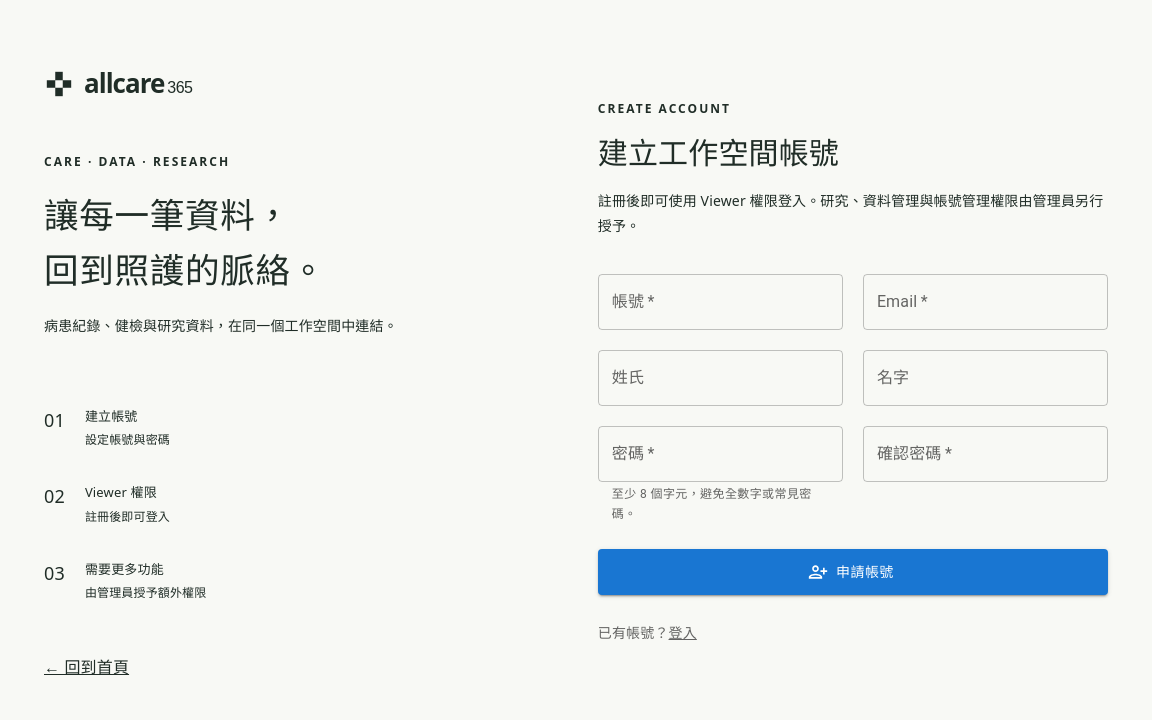
Scenario: registration confirmation prevents submitting another application
Type "synthetic" into the field labelled "帳號 *" at (720, 302), box [598, 274, 843, 330]
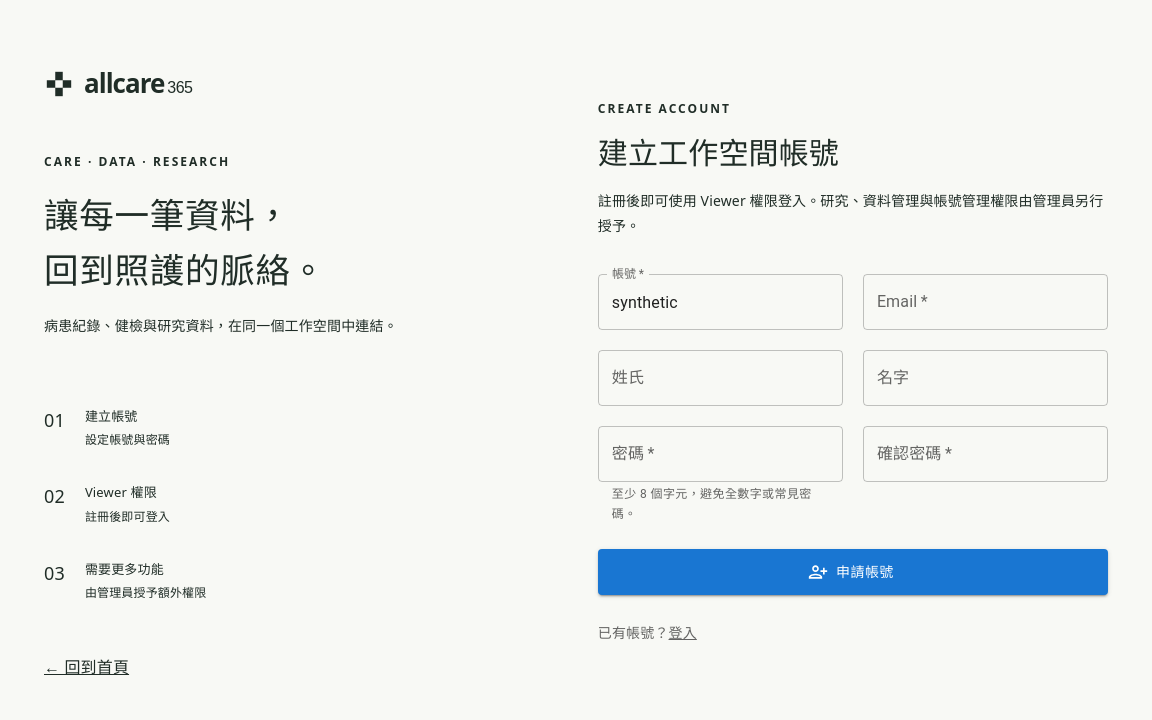
Type "synthetic@example.test" into the field labelled "Email *" at (985, 302), box [863, 274, 1108, 330]
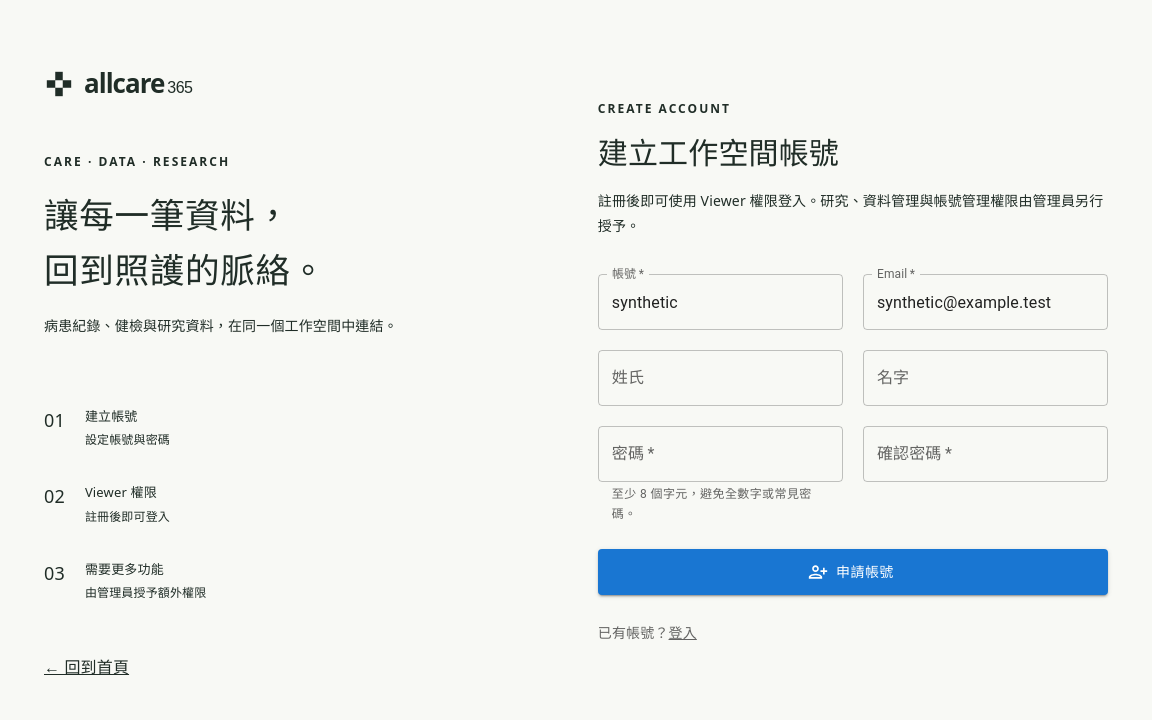
Type "Password-123" into the password field labelled "密碼 *" at (720, 454), box [598, 426, 843, 482]
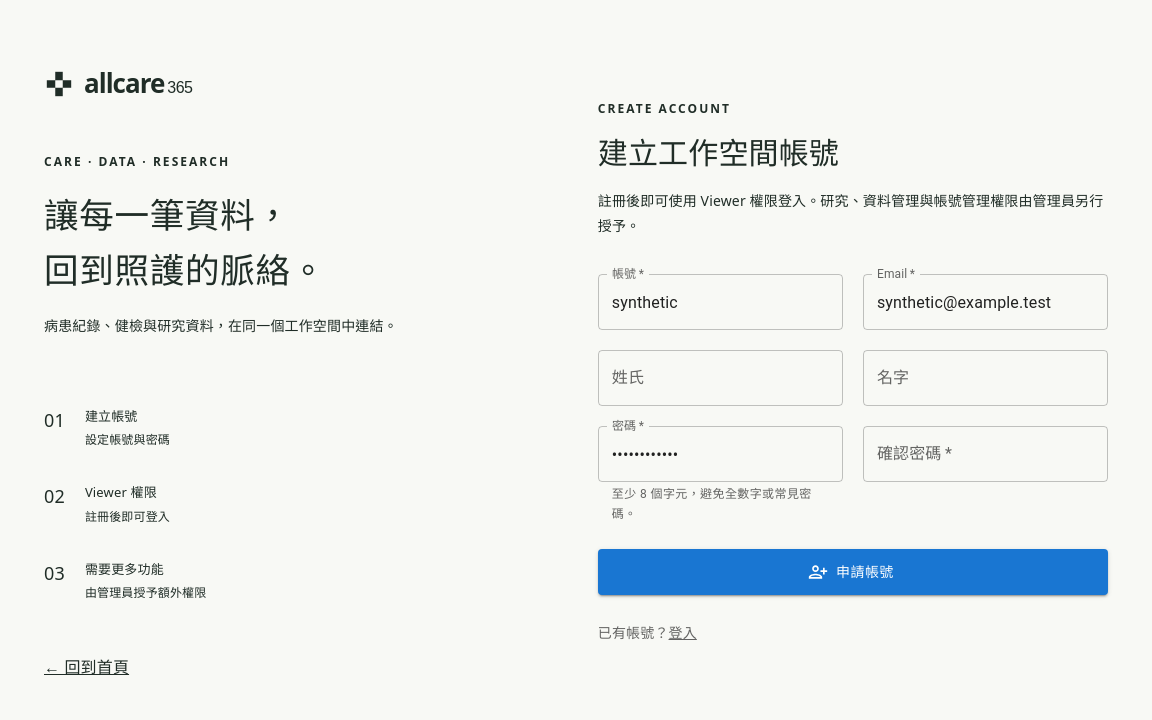
Type "Password-123" into the password field labelled "確認密碼 *" at (985, 454), box [863, 426, 1108, 482]
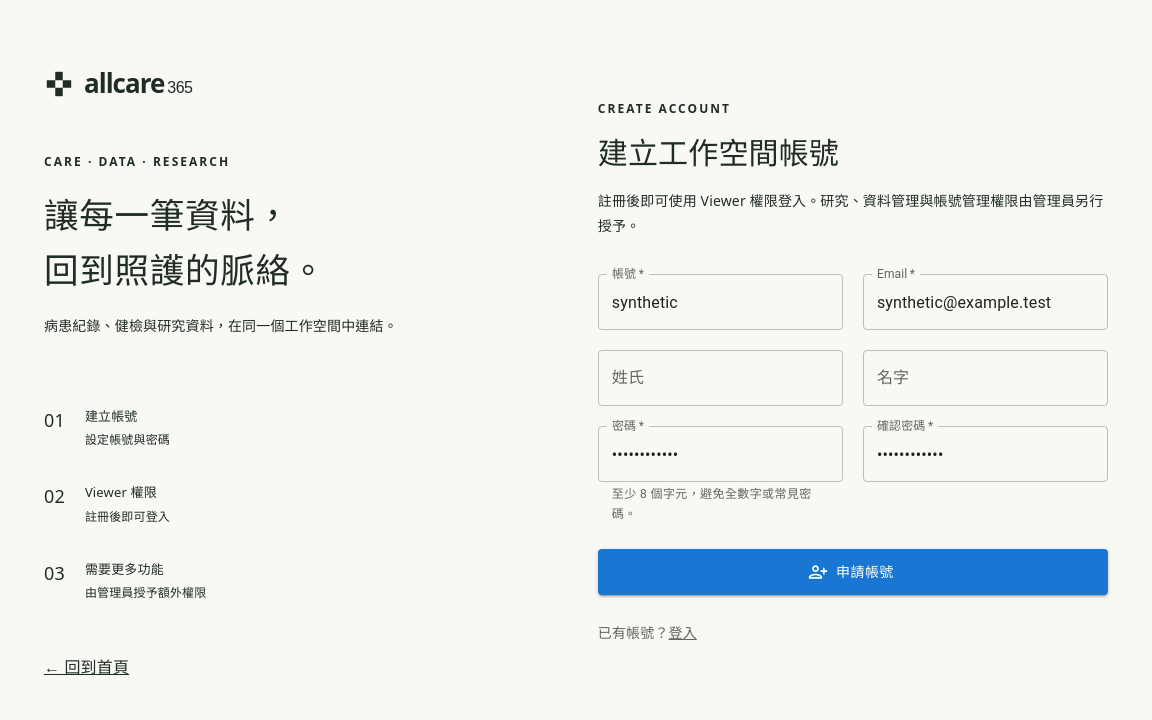
Submit the form "申請帳號", box [598, 266, 1108, 595]
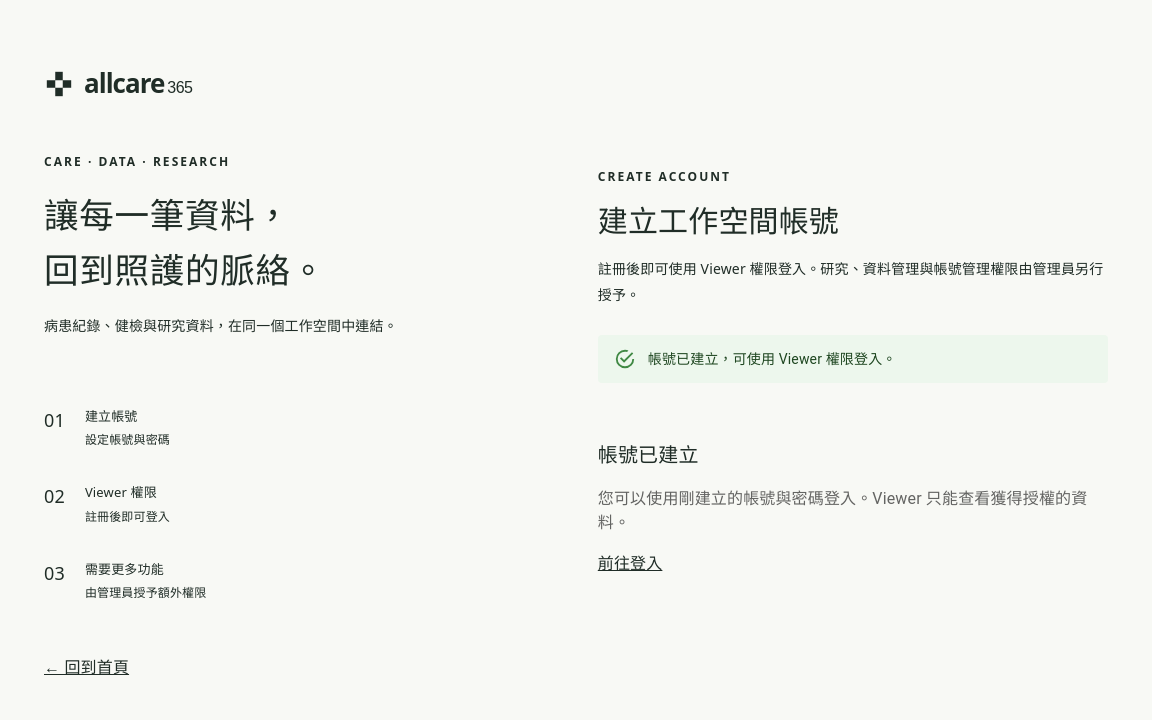
Result: the heading "帳號已建立" is shown at [598, 443, 699, 467]
Result: the button "申請帳號" is gone
